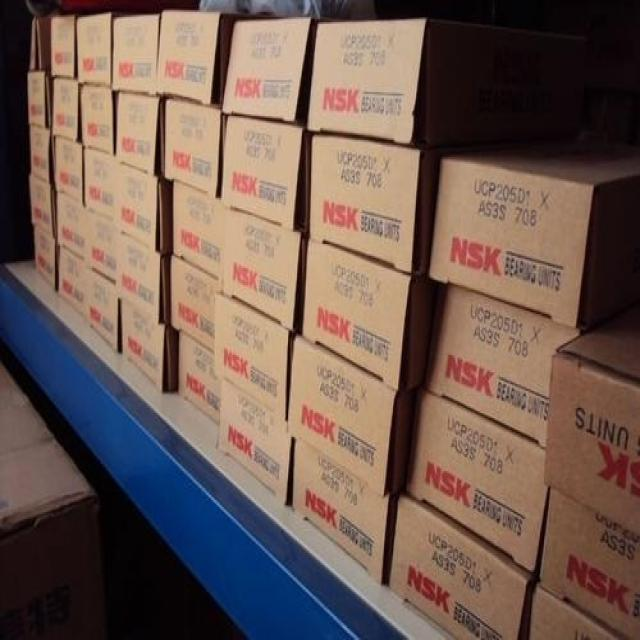box: (429, 150, 639, 328), (424, 285, 591, 451), (406, 389, 549, 575), (543, 304, 640, 534), (387, 497, 534, 640), (287, 335, 415, 498), (301, 239, 435, 391), (308, 135, 443, 278), (307, 17, 435, 150), (292, 439, 399, 585), (538, 488, 640, 638), (156, 12, 278, 109), (223, 116, 312, 239), (214, 288, 294, 422), (224, 208, 308, 335), (221, 17, 317, 128), (216, 377, 296, 510), (164, 97, 229, 201), (174, 181, 225, 292), (122, 299, 180, 396), (529, 584, 627, 640), (115, 232, 172, 328), (118, 162, 172, 254), (172, 254, 219, 353), (177, 331, 224, 423), (118, 90, 164, 177), (113, 14, 161, 94), (81, 265, 122, 353), (77, 14, 114, 89), (84, 147, 119, 222), (81, 85, 115, 159), (84, 212, 119, 283), (55, 137, 86, 205), (56, 246, 86, 314), (52, 77, 82, 143), (58, 193, 86, 263), (35, 225, 60, 292), (31, 176, 56, 242), (28, 70, 54, 131), (29, 128, 56, 186), (51, 17, 76, 77)
